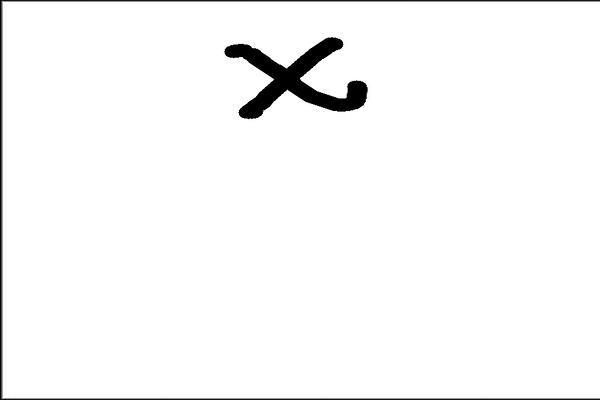X: (215, 14, 384, 140)
